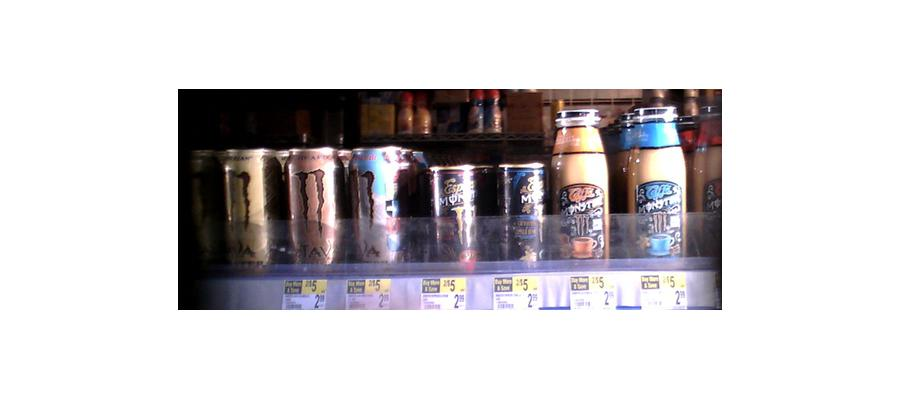bottle: (618, 101, 685, 263), (552, 105, 612, 267), (343, 143, 417, 270), (279, 144, 340, 268), (217, 145, 275, 266), (490, 153, 547, 268), (429, 157, 483, 269)
